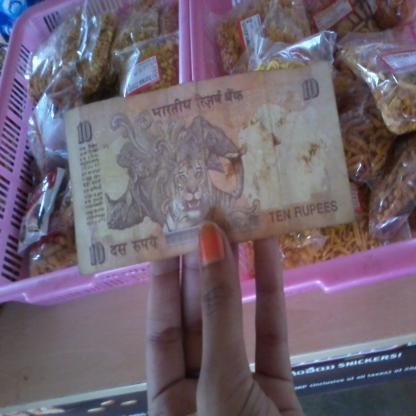Old10Back: (65, 60, 355, 278)
